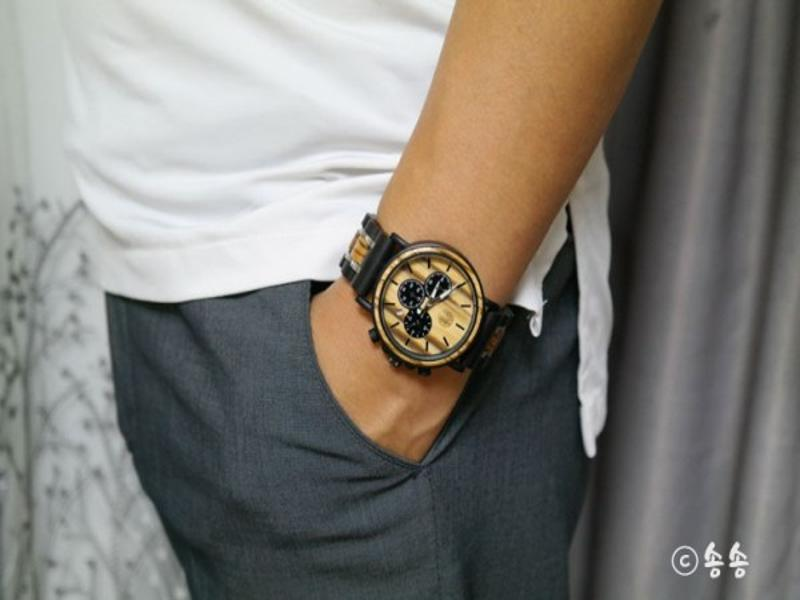watch: (341, 210, 516, 377)
